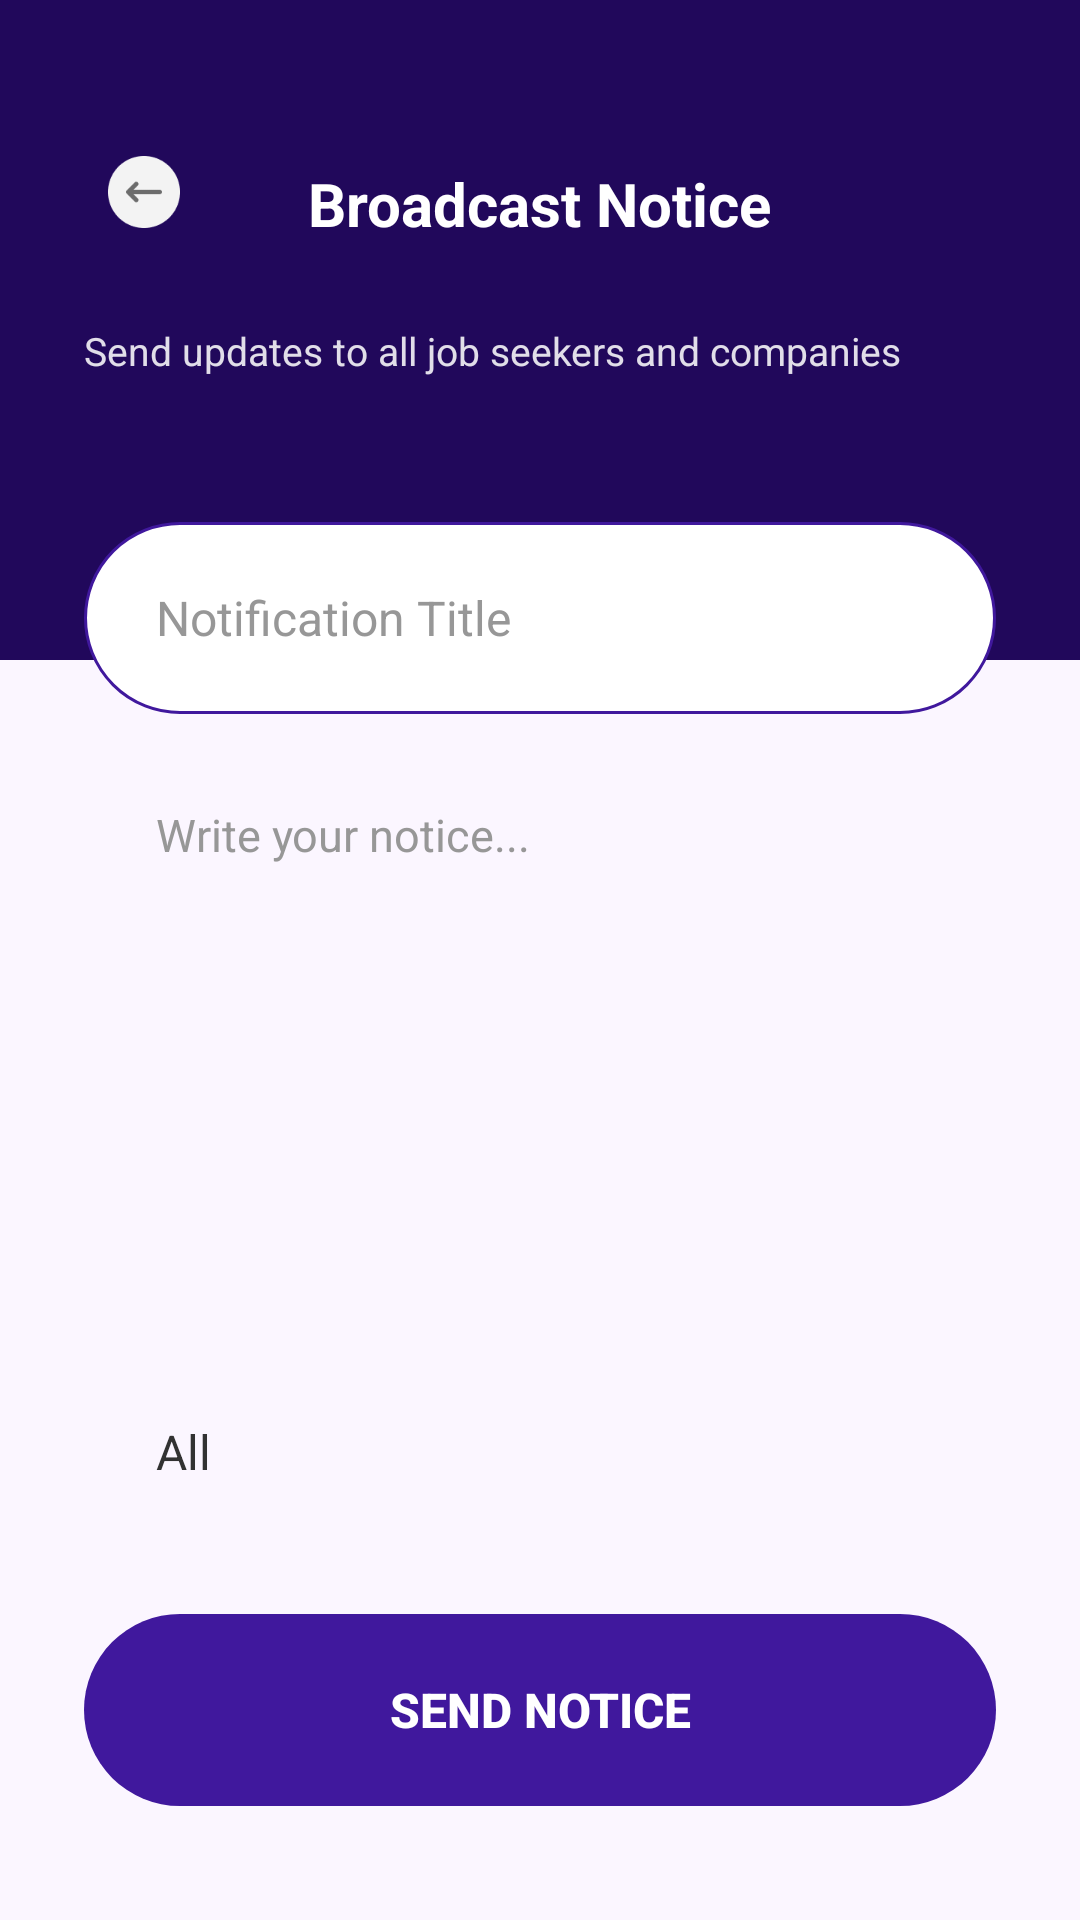

Where to tap for icons on this 1080x1920 app screen, as point (x, y):
Back: point (144, 192)
